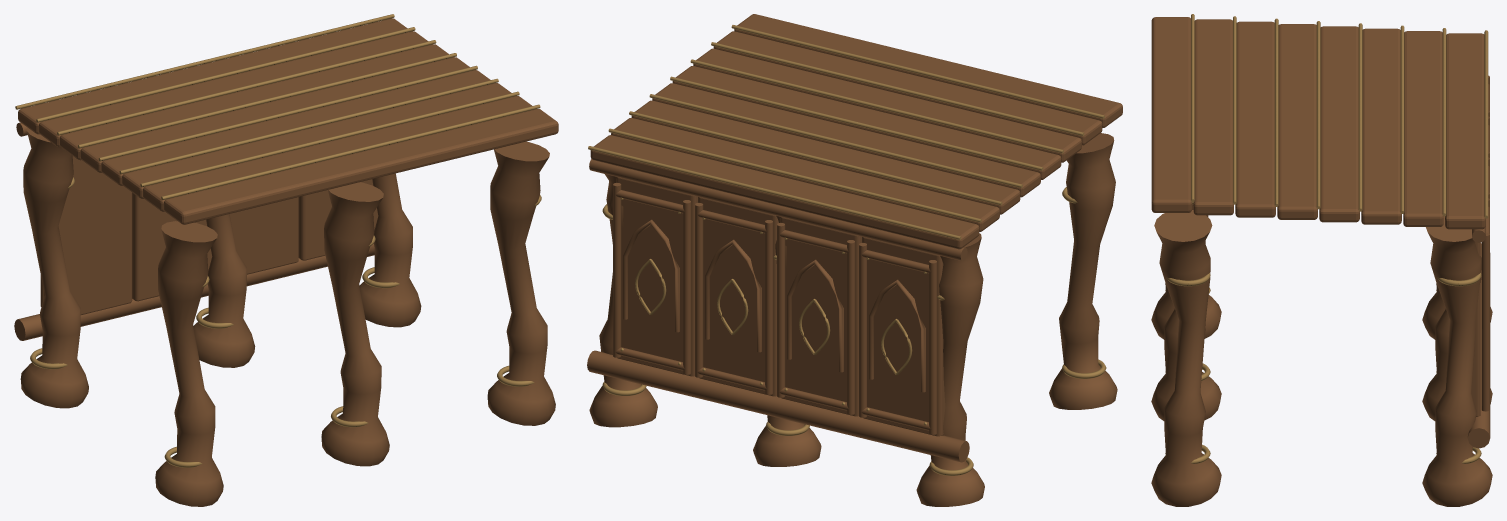
The model's file is merchant_return.fbx.
3 views of the same model, side by side, from view 1: azimuth 30°, elevation 25°; view 2: azimuth 150°, elevation 25°; view 3: azimuth 270°, elevation 25° (orthographic). The views are drawn at different scales.
Parts seen in each view (by area): view 1: merchant_return_DarkWood, merchant_return_Brass, GroundSupport01_Hand turned support.001_DarkWood, GroundSupport03_Hand turned support.003_DarkWood, GroundSupport05_Hand turned support.005_DarkWood, GroundSupport00_Hand turned support_DarkWood, GroundSupport04_Hand turned support.004_DarkWood, GroundSupport02_Hand turned support.002_DarkWood; view 2: merchant_return_DarkWood, merchant_return_Brass, GroundSupport01_Hand turned support.001_DarkWood, GroundSupport00_Hand turned support_DarkWood, GroundSupport04_Hand turned support.004_DarkWood, GroundSupport02_Hand turned support.002_DarkWood; view 3: merchant_return_DarkWood, GroundSupport05_Hand turned support.005_DarkWood, GroundSupport04_Hand turned support.004_DarkWood, merchant_return_Brass, GroundSupport03_Hand turned support.003_DarkWood, GroundSupport02_Hand turned support.002_DarkWood, GroundSupport01_Hand turned support.001_DarkWood, GroundSupport00_Hand turned support_DarkWood.
Boxes of the visible parts, x1,y1,x2,y2 form: merchant_return_DarkWood: [14, 18, 558, 340]; merchant_return_Brass: [15, 14, 541, 467]; GroundSupport01_Hand turned support.001_DarkWood: [155, 221, 223, 506]; GroundSupport03_Hand turned support.003_DarkWood: [321, 182, 389, 466]; GroundSupport05_Hand turned support.005_DarkWood: [487, 141, 555, 425]; GroundSupport00_Hand turned support_DarkWood: [20, 127, 88, 408]; GroundSupport04_Hand turned support.004_DarkWood: [359, 173, 421, 327]; GroundSupport02_Hand turned support.002_DarkWood: [193, 214, 255, 367]; merchant_return_DarkWood: [587, 14, 1122, 462]; merchant_return_Brass: [588, 25, 1106, 475]; GroundSupport01_Hand turned support.001_DarkWood: [1049, 133, 1117, 409]; GroundSupport00_Hand turned support_DarkWood: [916, 233, 984, 506]; GroundSupport04_Hand turned support.004_DarkWood: [589, 174, 657, 427]; GroundSupport02_Hand turned support.002_DarkWood: [753, 216, 821, 466]; merchant_return_DarkWood: [1151, 17, 1490, 448]; GroundSupport05_Hand turned support.005_DarkWood: [1151, 210, 1221, 506]; GroundSupport04_Hand turned support.004_DarkWood: [1422, 216, 1492, 506]; merchant_return_Brass: [1165, 14, 1488, 463]; GroundSupport03_Hand turned support.003_DarkWood: [1151, 204, 1221, 420]; GroundSupport02_Hand turned support.002_DarkWood: [1422, 308, 1492, 420]; GroundSupport01_Hand turned support.001_DarkWood: [1151, 283, 1221, 339]; GroundSupport00_Hand turned support_DarkWood: [1422, 283, 1492, 339].
Bounding box in the file's own units: 141 × 105 × 106.
